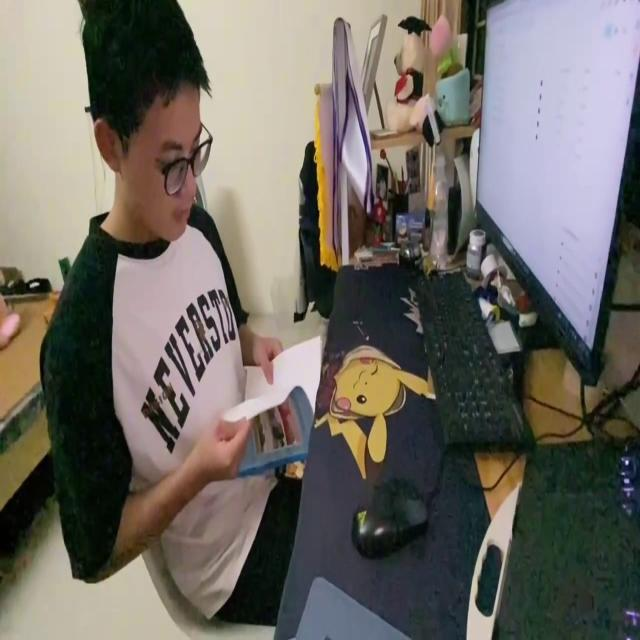book: (221, 331, 323, 475)
laptop: (473, 0, 640, 388)
student: (38, 0, 307, 629)
